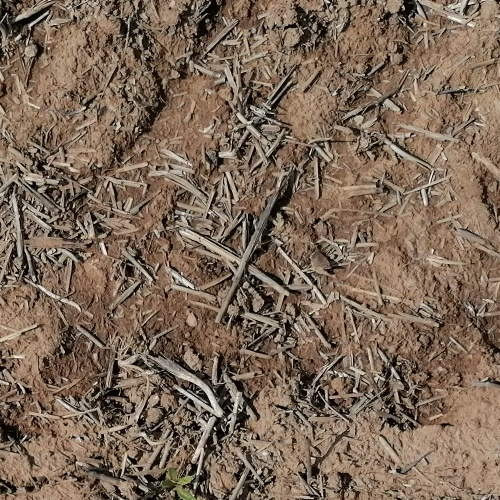beet: (160, 468, 196, 500)
